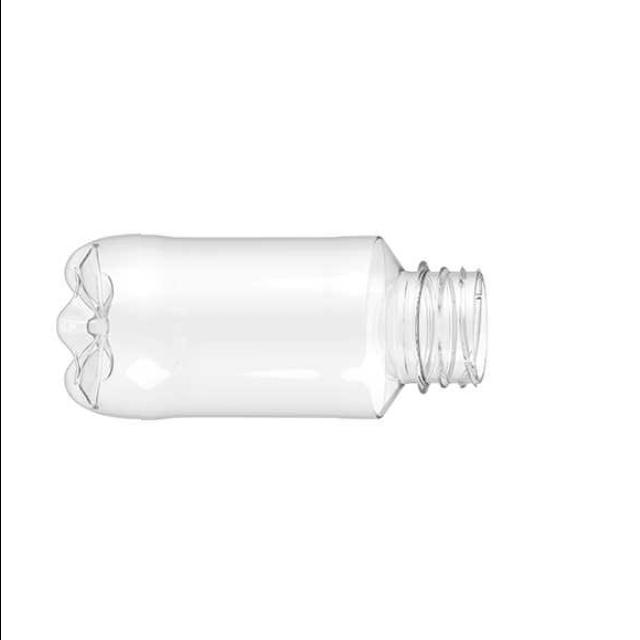bottom: (52, 216, 140, 432)
no_cap: (383, 242, 506, 398)
